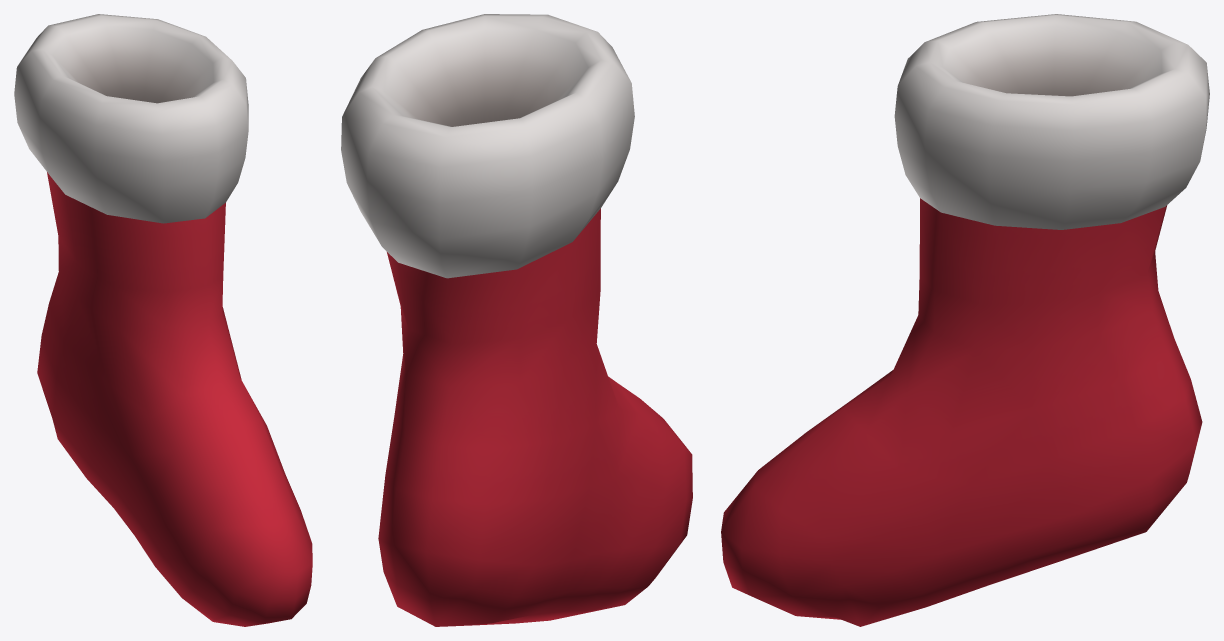
File: Christmass_sock_001.glb
The picture shows the model from 3 angles, left to right: view 1: azimuth 30°, elevation 25°; view 2: azimuth 150°, elevation 25°; view 3: azimuth 270°, elevation 25°; orthographic projection. The views are drawn at different scales.
Parts seen in each view (by area): view 1: Christmass_sock_001; view 2: Christmass_sock_001; view 3: Christmass_sock_001.
Part boxes in pixels (left/top/right/bottom): Christmass_sock_001: left=14, top=14, right=312, bottom=626; Christmass_sock_001: left=341, top=14, right=692, bottom=626; Christmass_sock_001: left=721, top=14, right=1209, bottom=626.
Bounding box in the file's own units: 0.1081 × 0.2733 × 0.2168.
1 material, 1 textured.
